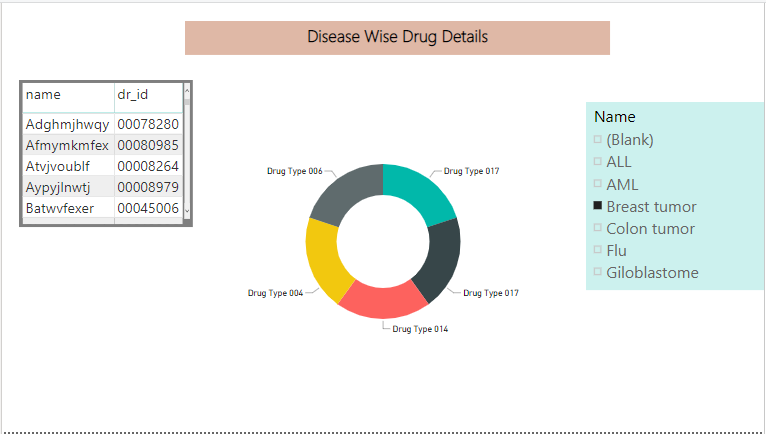

What the dashboard file says about the page in this screenshot:
{"tool":"powerbi","page":{"name":"Page 2","canvas":[1280,720],"ordinal":1},"visuals":[{"type":"slicer","fields":{"Values":["DISEASE_DIM_1_5370.name"]},"box":[981,166.3,299,315.8],"z":0},{"type":"textbox","box":[307.4,30.2,713.9,57.1],"z":4},{"type":"tableEx","fields":{"Values":["DRUG_DIM_1_5370.name","CLINICAL_FACT_1_5370.Dr_id"]},"box":[28.6,129.3,278.8,243.6],"z":1000},{"type":"donutChart","fields":{"Series":["DRUG_DIM_1_5370.type"],"Y":["CountNonNull(CLINICAL_FACT_1_5370.Dr_id)"],"Category":["DRUG_DIM_1_5370.name"]},"box":[403.1,211.7,473.7,378],"z":2000}]}

Visuals, with their boxes in screenshot pixels (x1, y1, x2, y2), scaled from the page's 1280x720 canvas onto the 766x434 screenshot:
slicer - DISEASE_DIM_1_5370.name: [x1=587, y1=100, x2=765, y2=291]
textbox: [x1=184, y1=18, x2=611, y2=53]
tableEx - DRUG_DIM_1_5370.name x CLINICAL_FACT_1_5370.Dr_id: [x1=17, y1=78, x2=184, y2=225]
donutChart - DRUG_DIM_1_5370.type x CountNonNull(CLINICAL_FACT_1_5370.Dr_id): [x1=241, y1=128, x2=525, y2=355]
